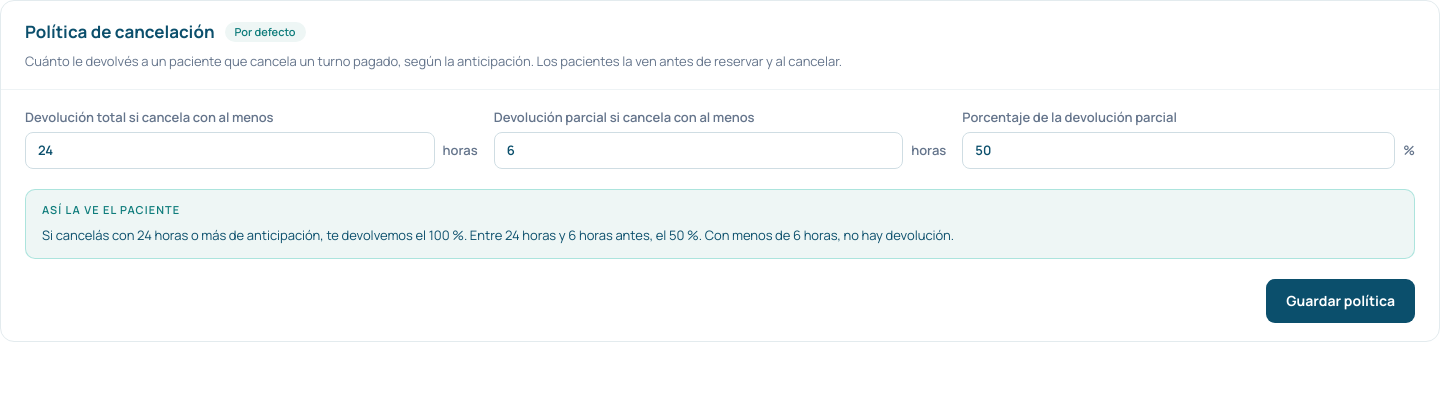
Test case: CancellationPolicyForm › no manda nada si la ventana parcial es más lejana que la total
Replace the text in the number field labelled "Devolución parcial si cancela con al menos horas" with "30" at (698, 151), box [494,132,903,169]
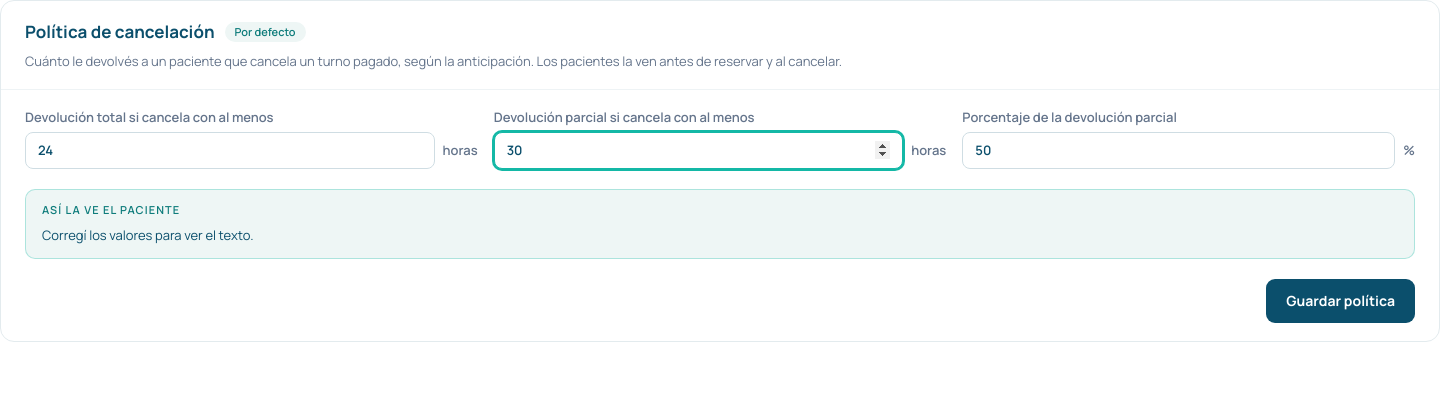
Click the button "Guardar política" at (1341, 301), box [1266,279,1415,323]
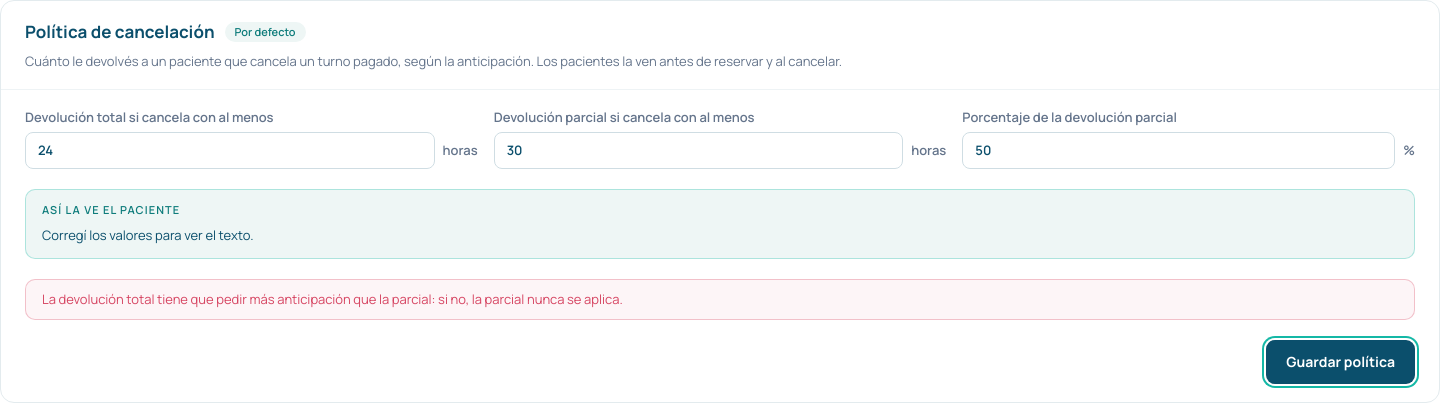
Now the message shows "más anticipación", box [42,290,623,308]
